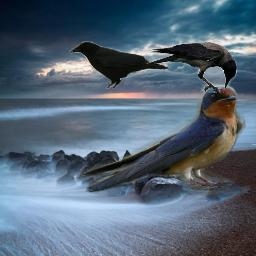Crow: (67, 39, 168, 89), (146, 41, 237, 93)
Swallow: (55, 84, 246, 195)
